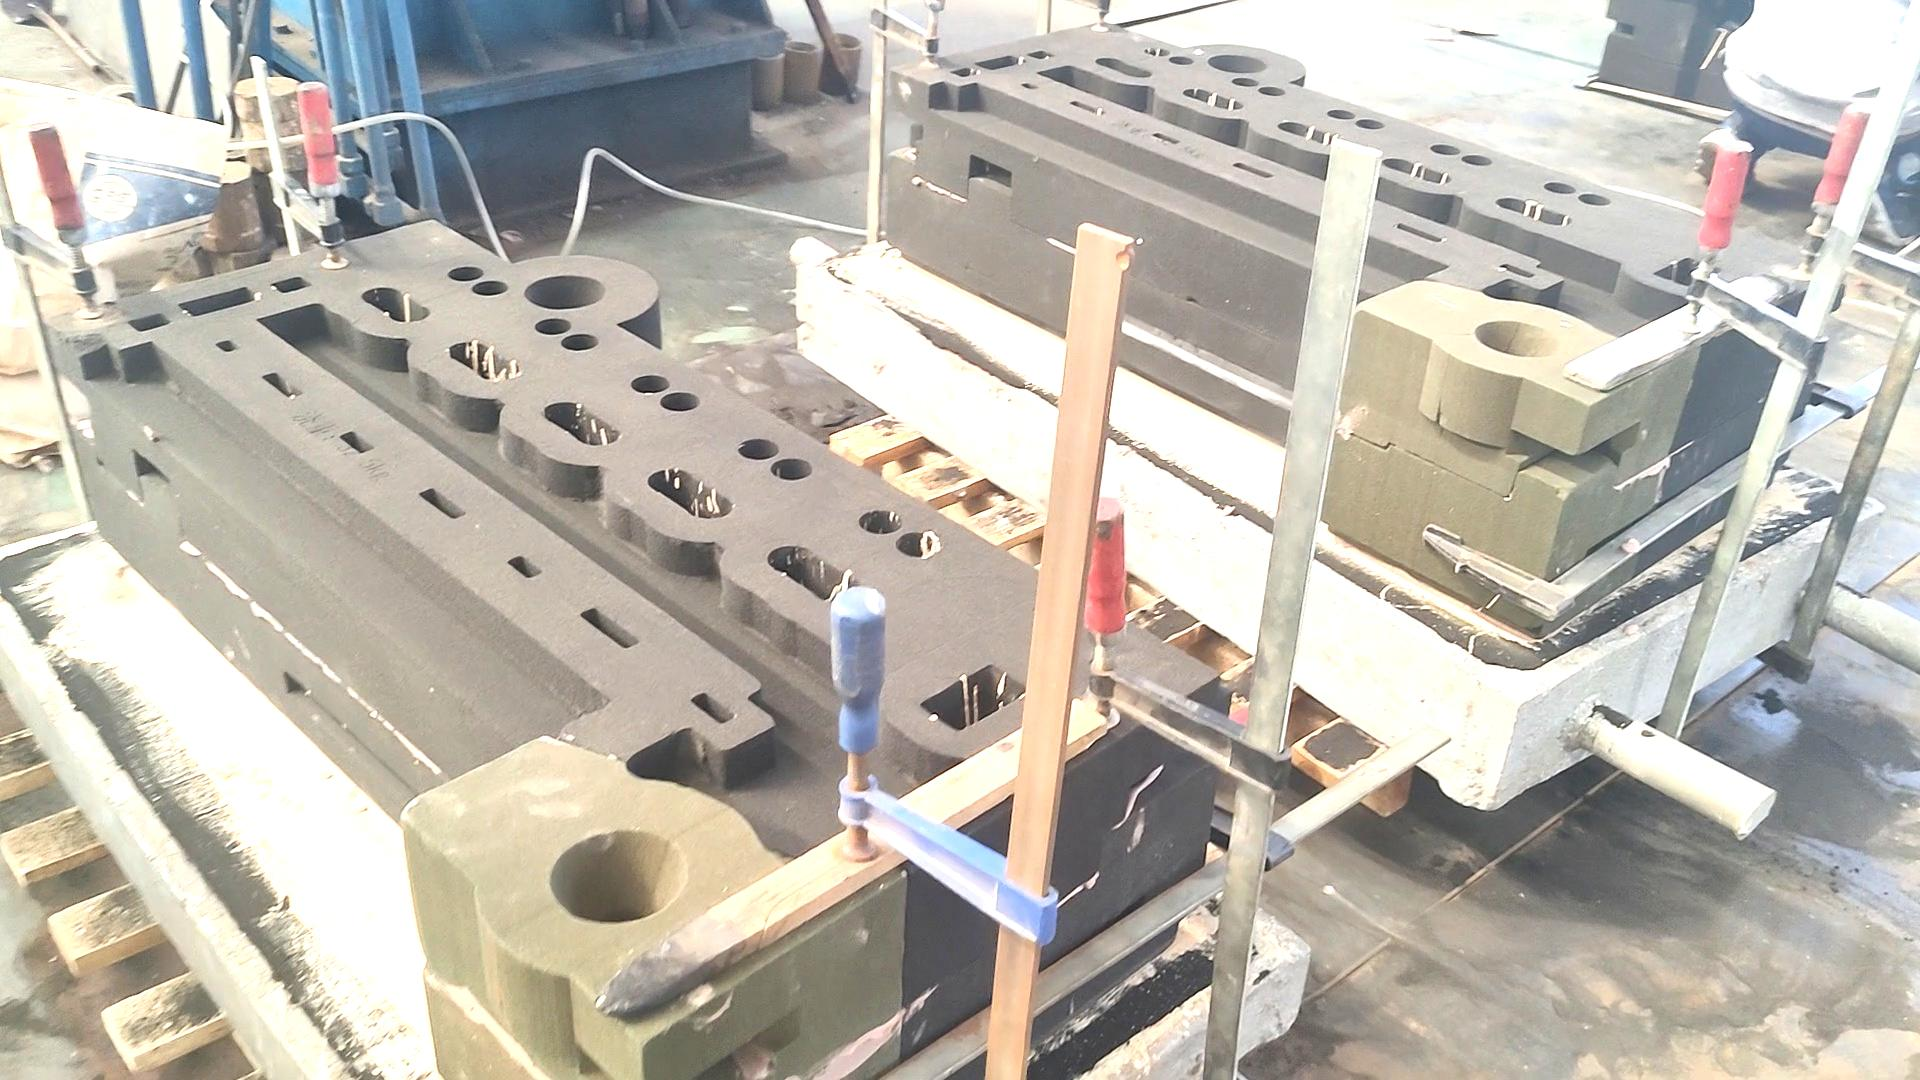pouring hole: (549, 829, 688, 924), (1473, 319, 1563, 357), (524, 276, 607, 309), (1208, 54, 1267, 73), (825, 32, 862, 47), (750, 45, 785, 61), (785, 41, 818, 54), (764, 26, 790, 40)
